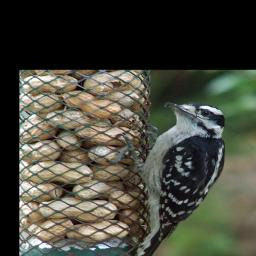Woodpecker: (113, 99, 241, 256)
